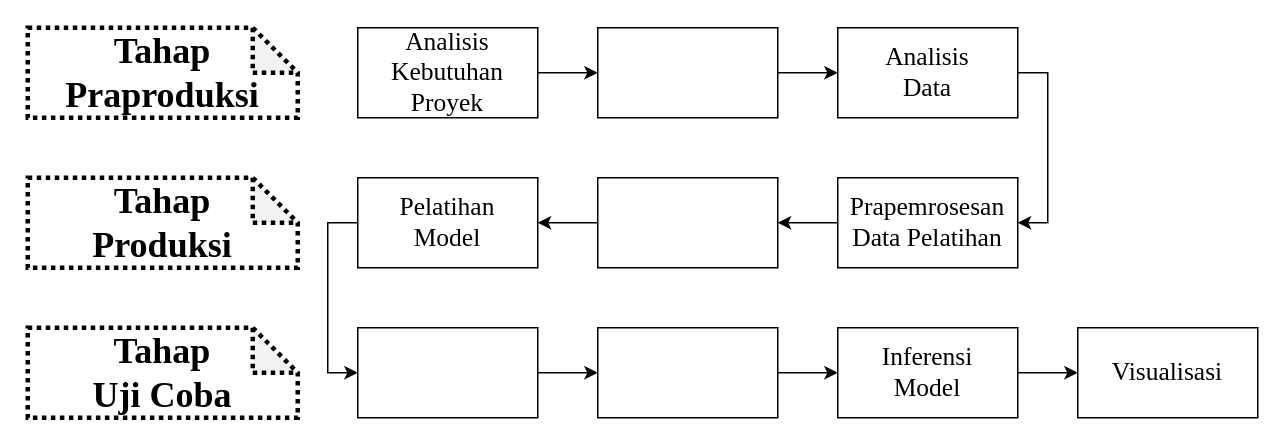
Image size: 1284x446. Some labels were removed from this diagram. Each missing label, with the box of its shape:
Analisis Struktur Proyek: (596, 26, 778, 118)
Arsitektur Model: (596, 176, 778, 268)
OpenPose: (596, 326, 778, 418)
Prapemrosesan Data Inferensi: (356, 326, 538, 418)
